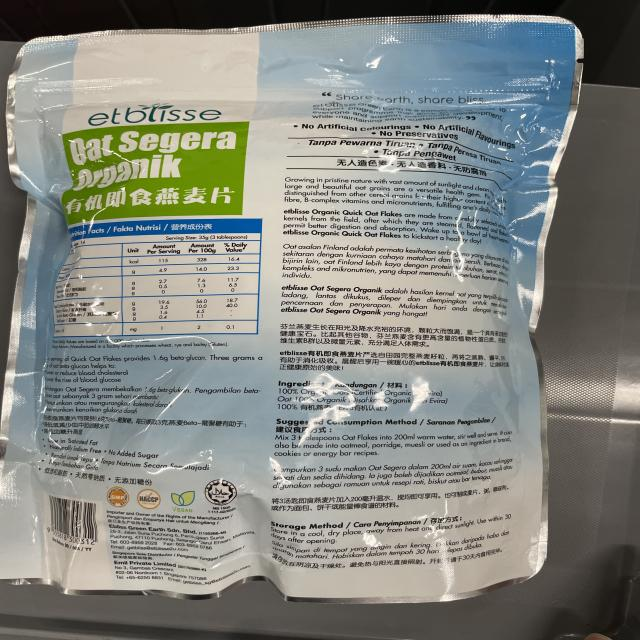object_name: (13, 33, 542, 572)
